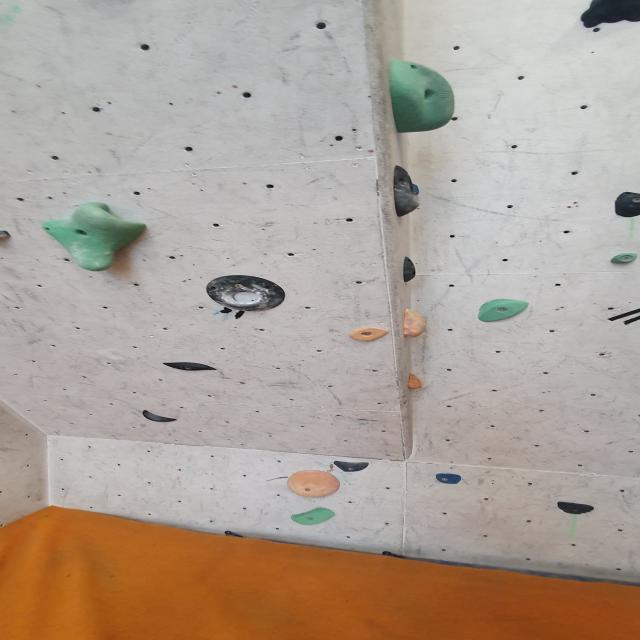Crimp: (474, 298, 531, 324), (608, 186, 640, 219), (552, 498, 600, 516), (346, 326, 390, 342), (609, 250, 640, 266)
Jug: (37, 199, 152, 275), (574, 0, 640, 31)
Pinch: (394, 306, 433, 339), (288, 507, 337, 529)
Pocket: (204, 272, 287, 316), (390, 165, 422, 218)
Sloper: (386, 58, 462, 138), (285, 468, 341, 499)
